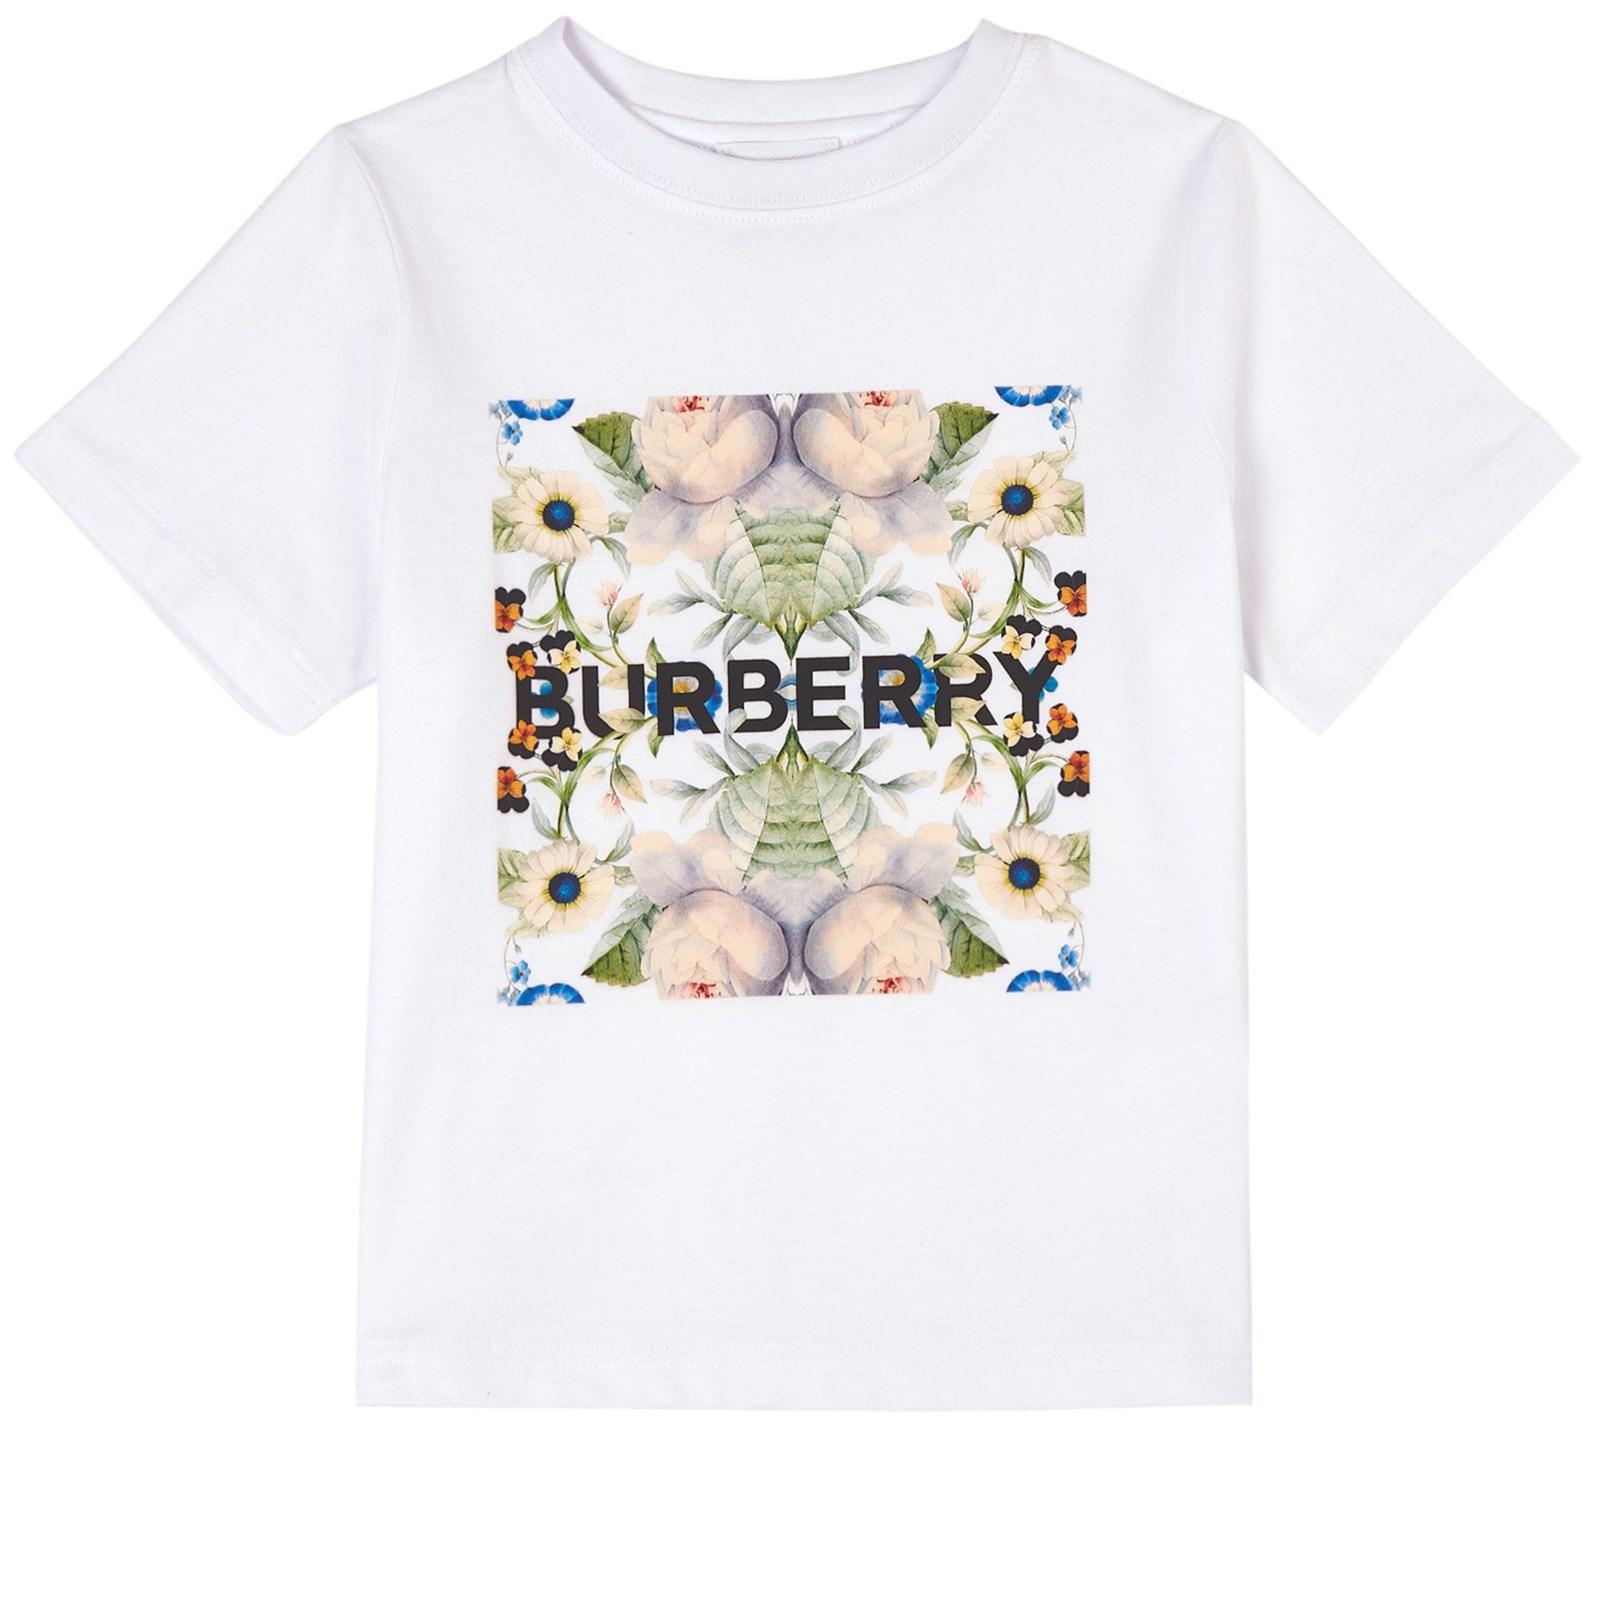BURBERRY: (514, 652, 1064, 738)
